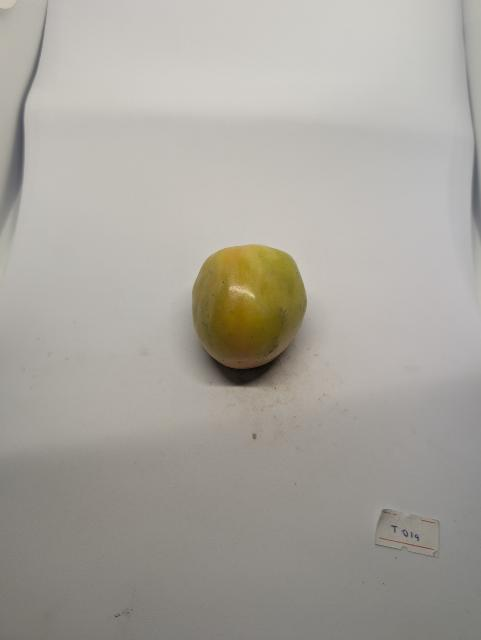breaker: (193, 245, 307, 369)
